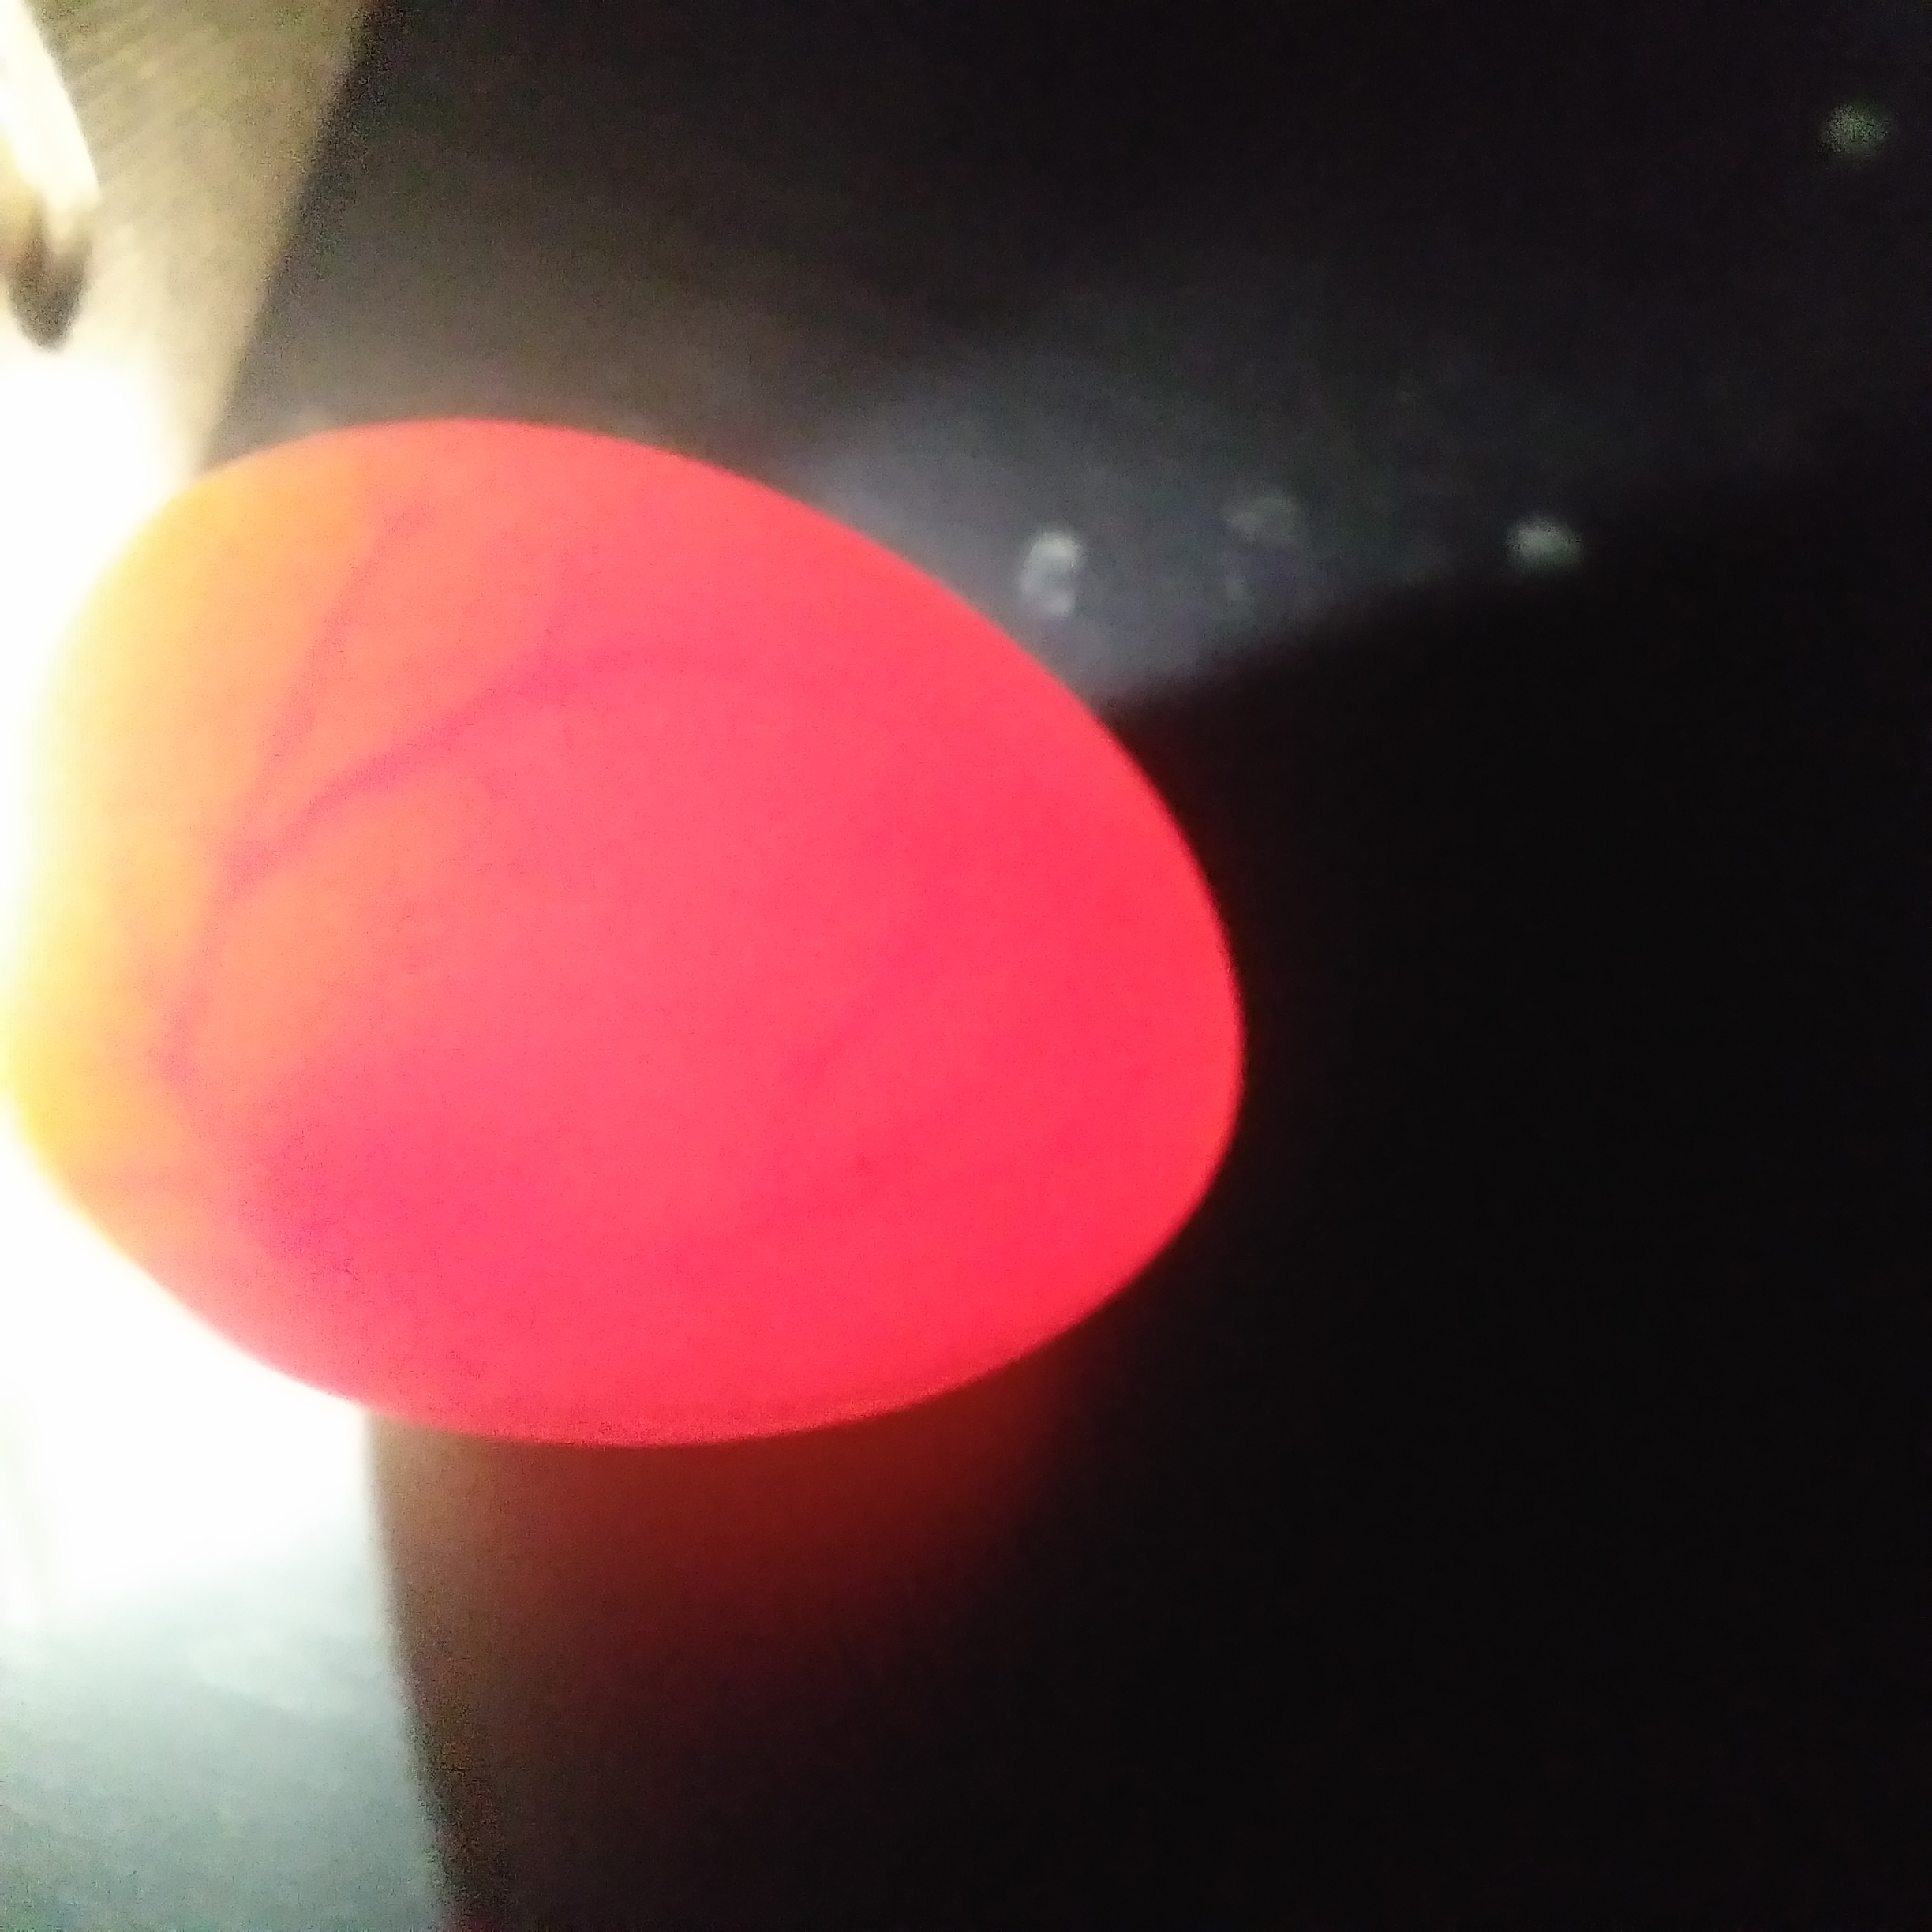bloodcell: (106, 506, 651, 1065)
embryo: (191, 1122, 380, 1295)
